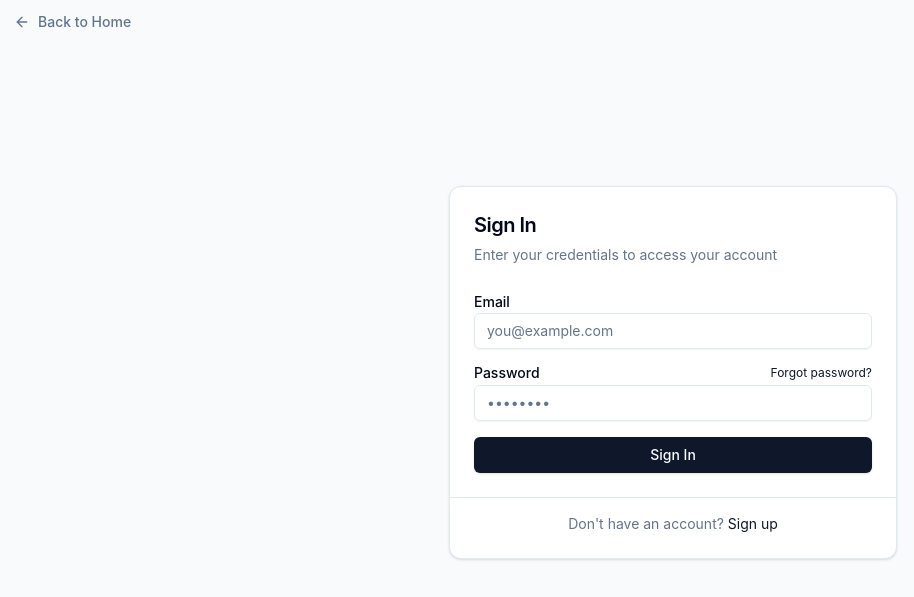
Scenario: Login Component › shows validation errors if fields are empty
Click the button "Sign In" at (673, 454), box [474,436,872,472]
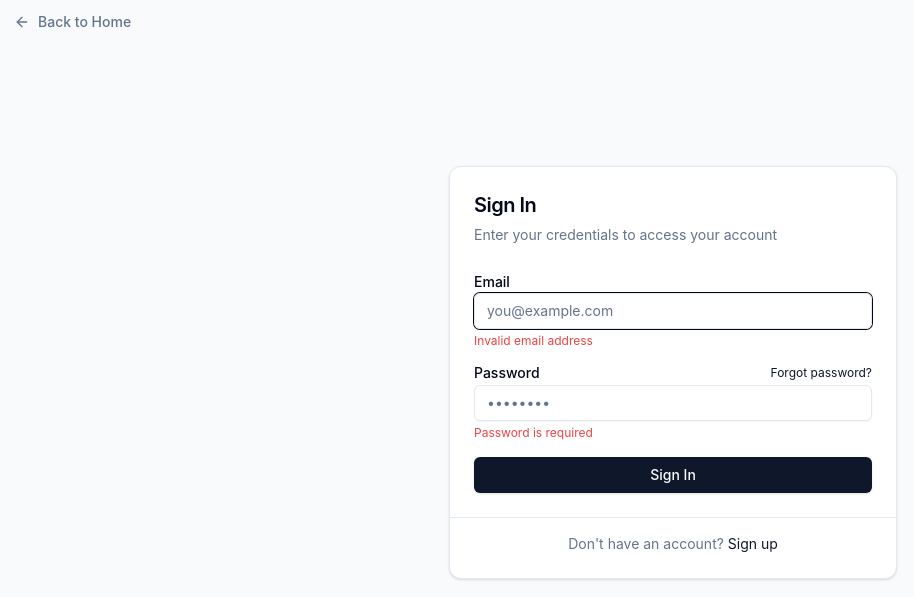
Expected: the text "Invalid email address" is shown, [474,332,593,348]
Expected: the text "Password is required" is shown, [474,424,593,440]
